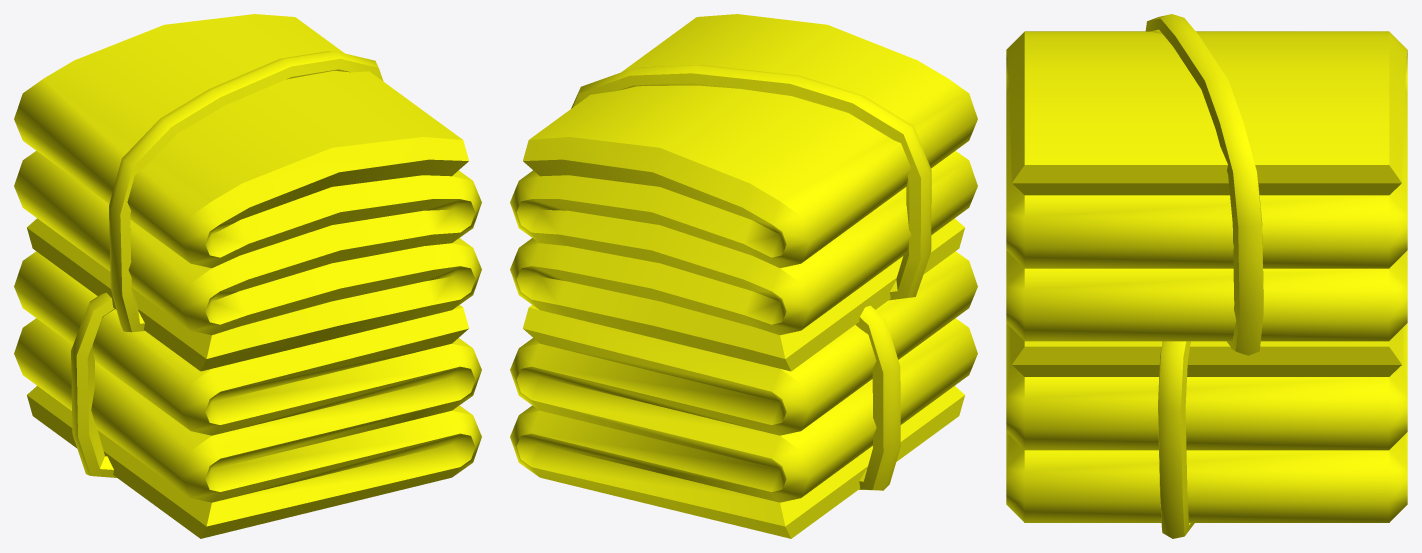
File: kaykit-textiles-b.glb
The picture shows the model from 3 angles, left to right: view 1: azimuth 30°, elevation 25°; view 2: azimuth 150°, elevation 25°; view 3: azimuth 270°, elevation 25°; orthographic projection. The views are drawn at different scales.
Parts seen in each view (by area): view 1: Textiles_B; view 2: Textiles_B; view 3: Textiles_B.
Part boxes in pixels (x1=…): Textiles_B: x1=14, y1=14, x2=481, y2=538; Textiles_B: x1=510, y1=14, x2=977, y2=538; Textiles_B: x1=1006, y1=14, x2=1407, y2=538.
Bounding box in the file's own units: 0.8196 × 0.9318 × 0.8.
